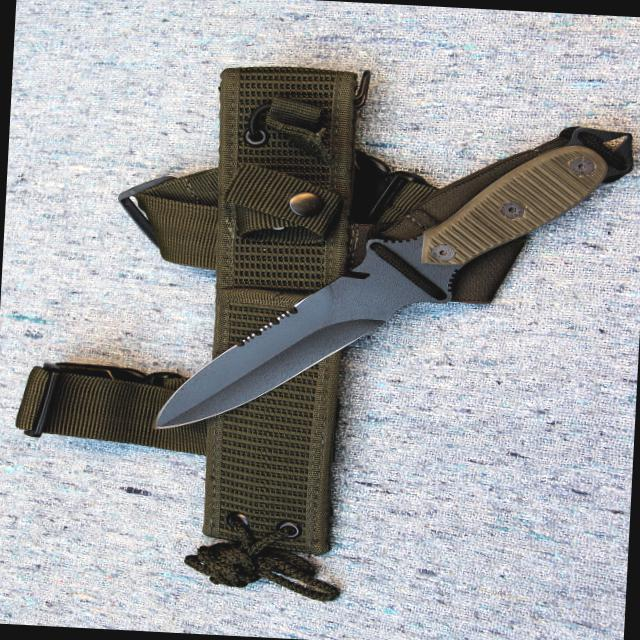knife: (142, 232, 452, 450)
